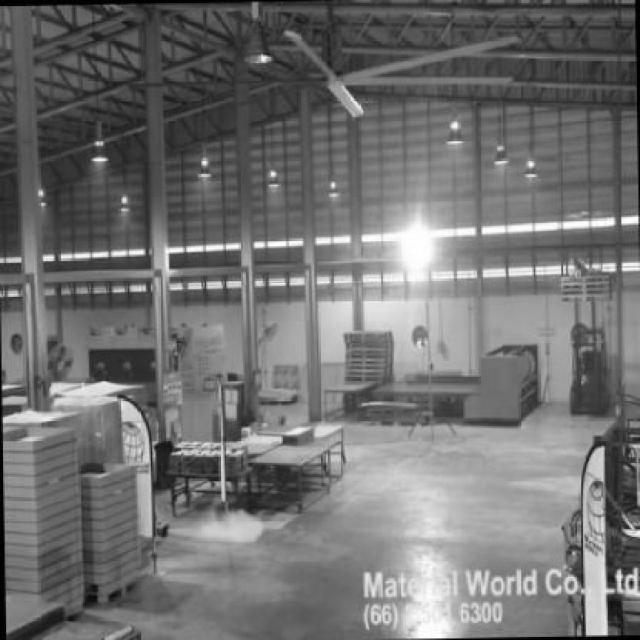fire: (190, 501, 273, 550)
